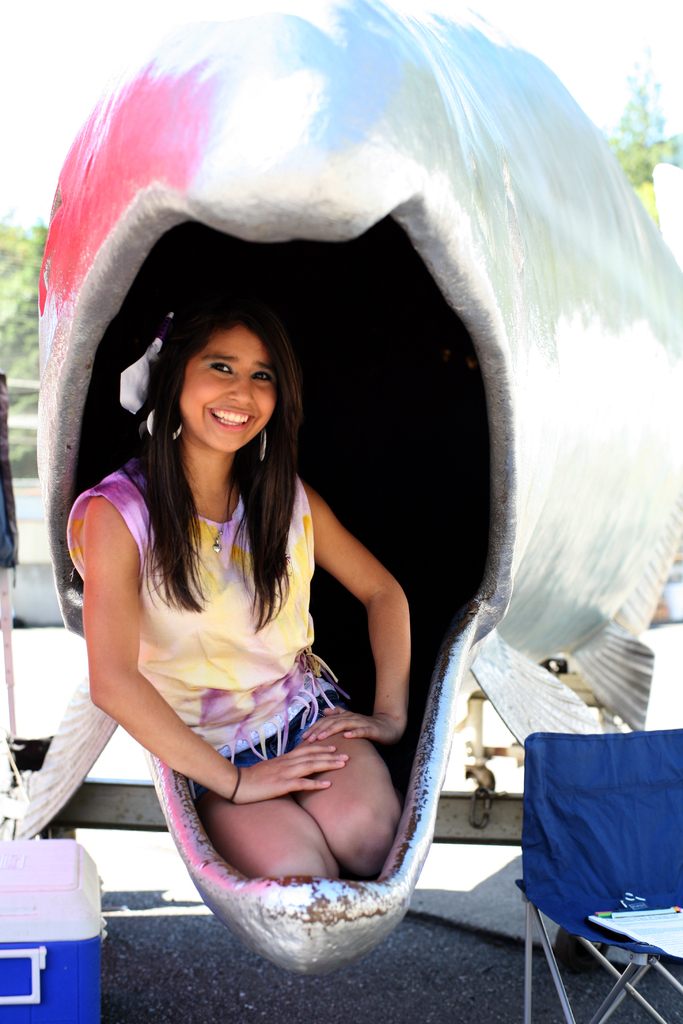Human_hand: (238, 748, 349, 815), (297, 701, 409, 743)
